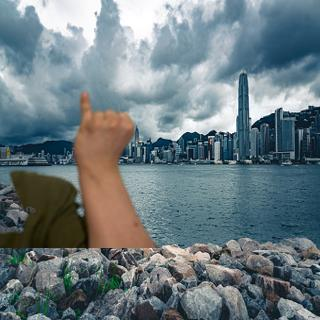FINE: (68, 90, 136, 173)
